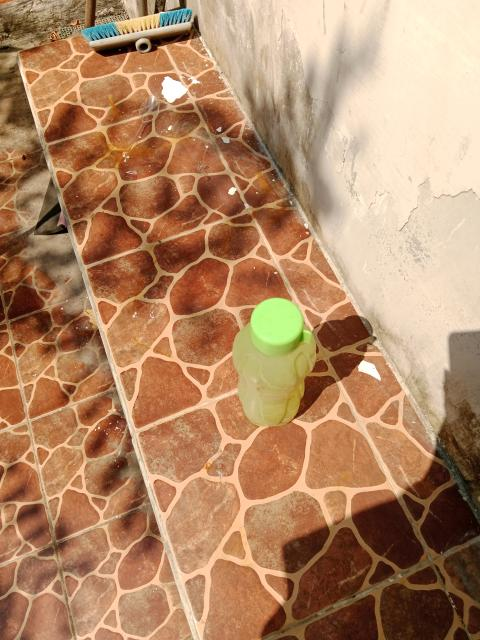botol: (224, 278, 328, 439)
